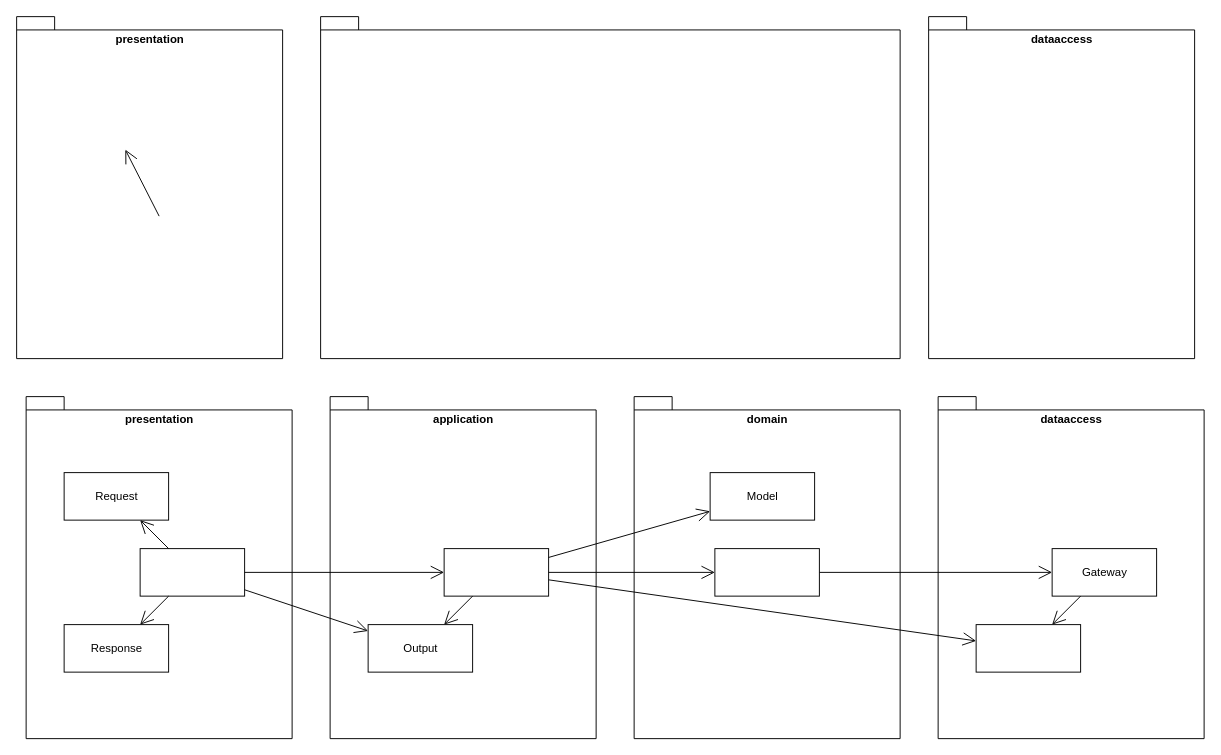
This 1221x755 diagram has some shape labels left out. The box of each missing label's shape, as (x1, y1, x2, y2) in pixels:
Domain Logic: (320, 16, 900, 359)
Record: (975, 624, 1081, 672)
Repository: (714, 548, 819, 596)
Router: (139, 548, 245, 596)
Service: (443, 548, 549, 596)
